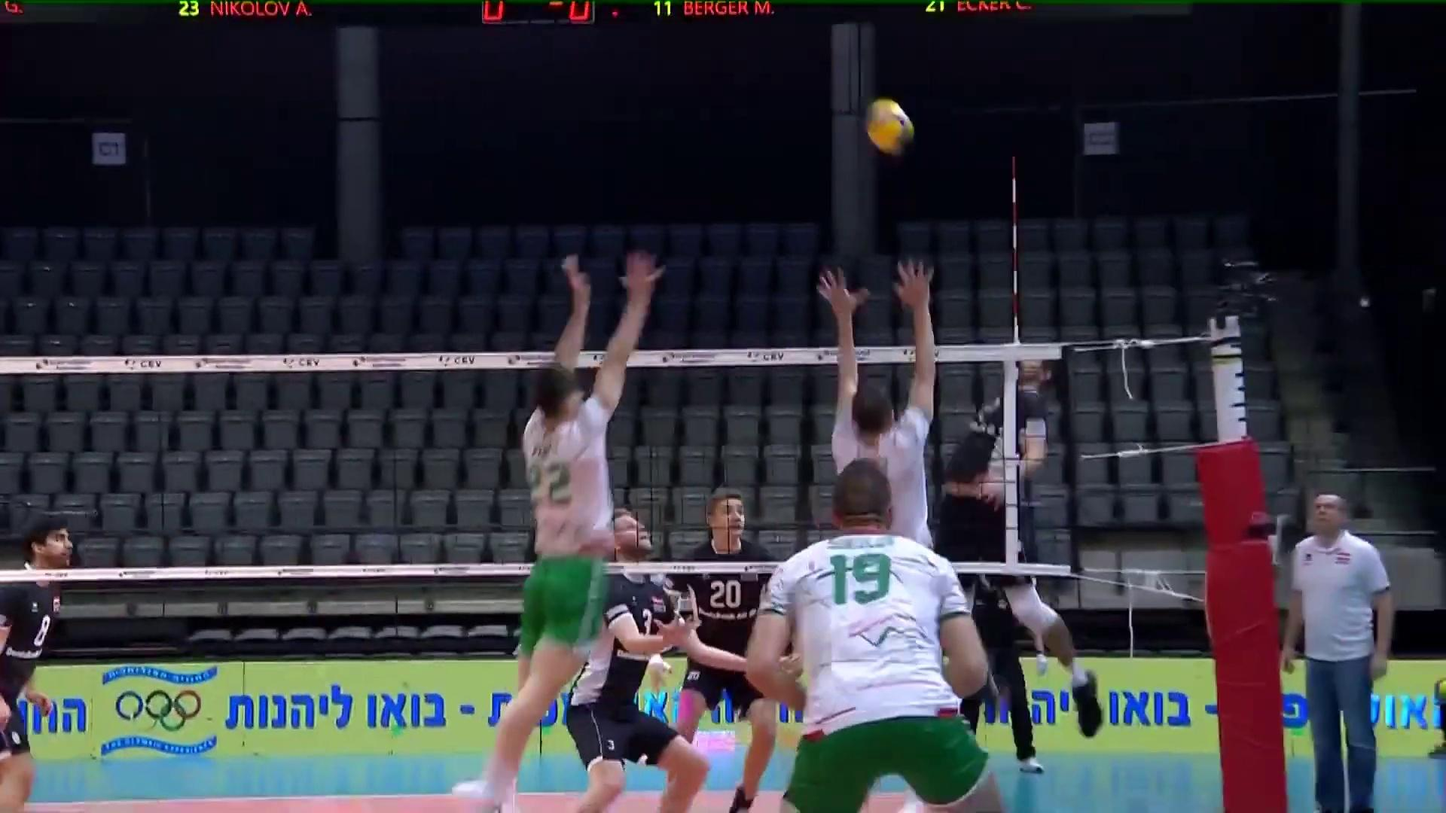ball: (860, 102, 920, 155)
